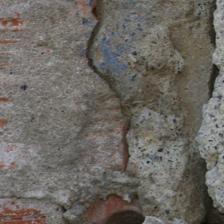Crack: (0, 0, 131, 147), (25, 57, 110, 167)
